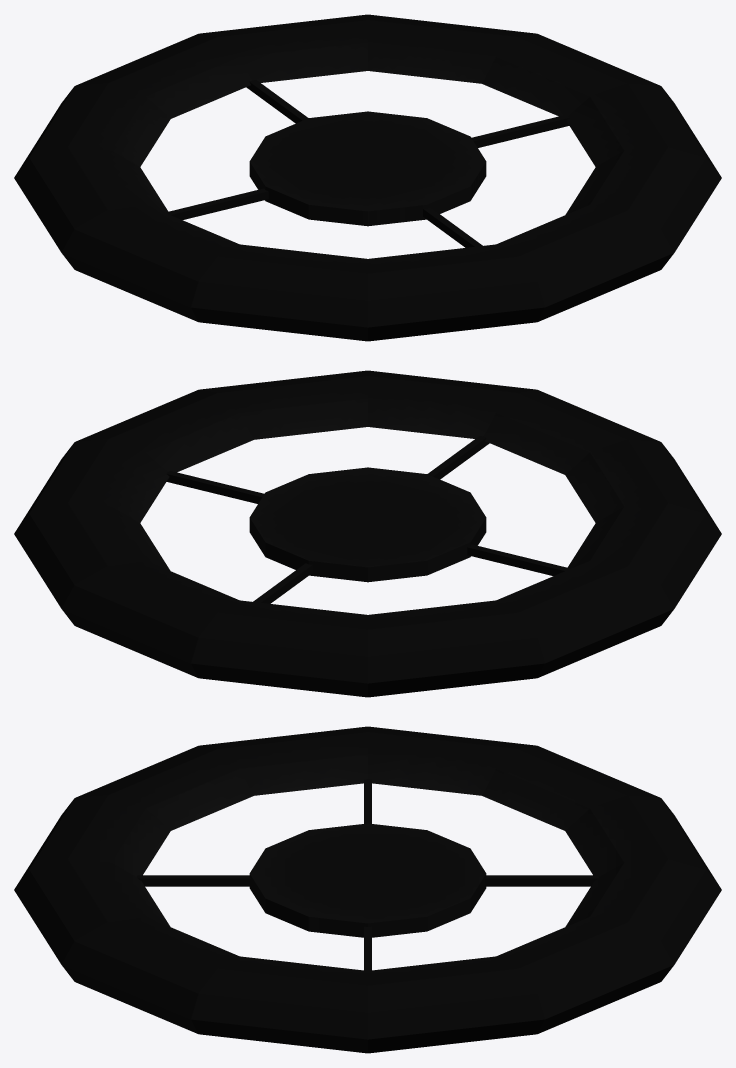
Rendered from Simon.gltf.
The picture shows the model from 3 angles, top to bottom: view 1: azimuth 30°, elevation 25°; view 2: azimuth 150°, elevation 25°; view 3: azimuth 270°, elevation 25°; orthographic projection.
Visible parts, largest first — view 1: Circle; view 2: Circle; view 3: Circle.
Boxes of the visible parts, <box> form: Circle: <box>14,14,721,341</box>; Circle: <box>14,370,721,697</box>; Circle: <box>14,726,721,1053</box>.
Bounding box in the file's own units: 5.98 × 0.5806 × 5.98.
1 material, 1 textured.
